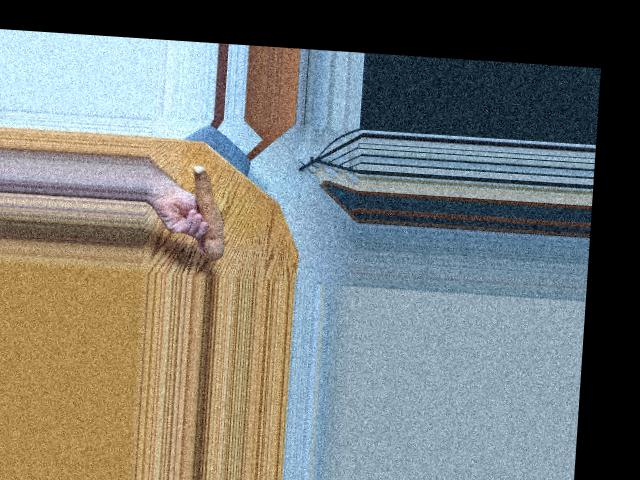sweet_potato: (185, 162, 234, 257)
